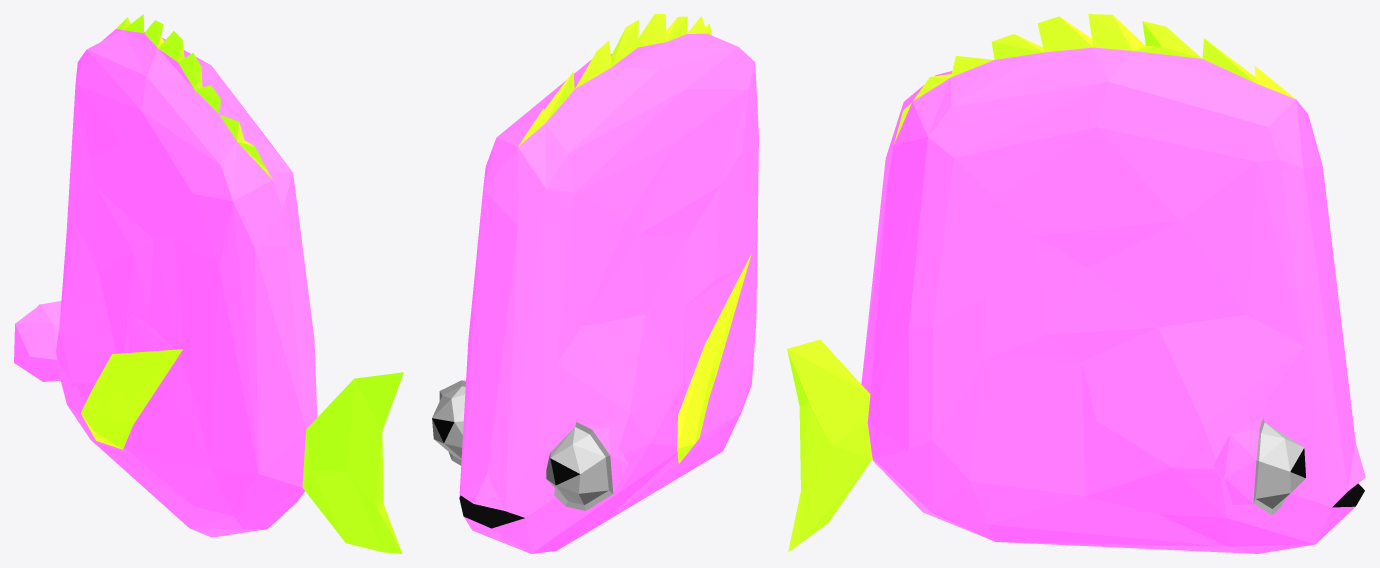
File: FishiFisho.fbx
The picture shows the model from 3 angles, left to right: view 1: azimuth 30°, elevation 25°; view 2: azimuth 150°, elevation 25°; view 3: azimuth 270°, elevation 25°; orthographic projection. The views are drawn at different scales.
Visible parts, largest first — view 1: Cube.001; view 2: Cube.001; view 3: Cube.001.
Part boxes in pixels (<box>): Cube.001: <box>14,14,403,553</box>; Cube.001: <box>432,14,758,553</box>; Cube.001: <box>787,14,1365,553</box>.
Size of the model in its own units: 102 by 233 by 234.
